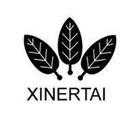adidas Fake: (20, 15, 119, 105)
